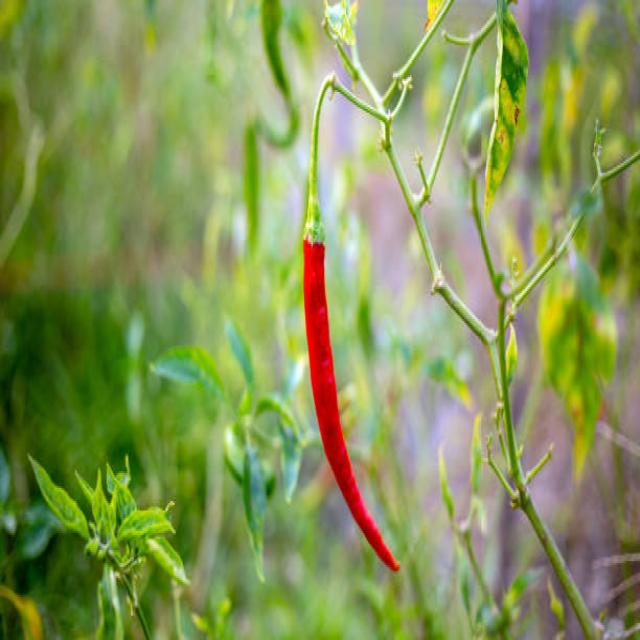Ripe: (306, 238, 400, 571)
